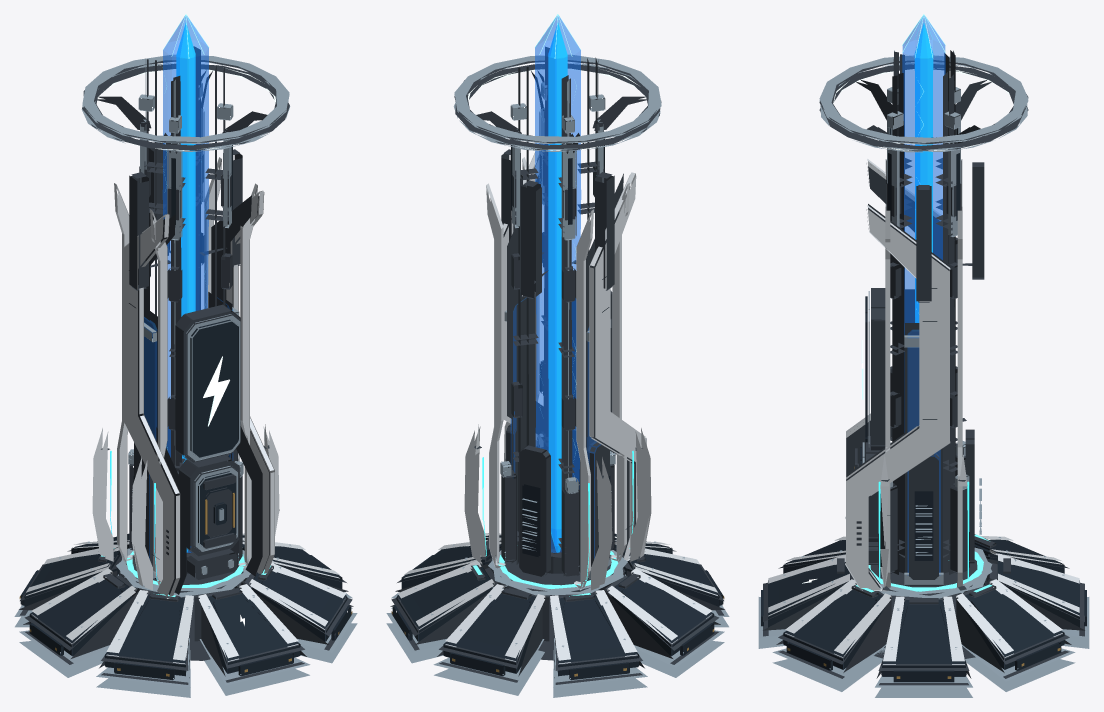
Rendered from agv_charge_tower_LOD2.glb.
The picture shows the model from 3 angles, left to right: view 1: azimuth 30°, elevation 25°; view 2: azimuth 150°, elevation 25°; view 3: azimuth 270°, elevation 25°; orthographic projection.
Visible parts, largest first — view 1: 11_Base_Panels, 10_Base_Frame, 04_Internal_Frame, 01_Crystal_Shell, 16_Front_Panel, 07_Halo_Metal, 09_Armor_Side_-1, 12_Base_Armor, 18_Charging_Bay, 19_Rear_Service, 09_Armor_Lower_Fins, 02_Crystal_Inner (+10 smaller); view 2: 11_Base_Panels, 10_Base_Frame, 01_Crystal_Shell, 04_Internal_Frame, 19_Rear_Service, 07_Halo_Metal, 15_Mechanical_Details, 12_Base_Armor, 02_Crystal_Inner, 09_Armor_Side_-1, 09_Armor_Lower_Fins, 09_Armor_Back_1 (+8 smaller); view 3: 11_Base_Panels, 10_Base_Frame, 04_Internal_Frame, 09_Armor_Side_1, 07_Halo_Metal, 19_Rear_Service, 01_Crystal_Shell, 12_Base_Armor, 15_Mechanical_Details, 16_Front_Panel, 02_Crystal_Inner, 09_Armor_Back_1 (+7 smaller).
Boxes of the visible parts, x1,y1,x2,y2 form: 11_Base_Panels: [20, 533, 351, 680]; 10_Base_Frame: [14, 541, 357, 697]; 04_Internal_Frame: [101, 46, 269, 594]; 01_Crystal_Shell: [162, 15, 209, 552]; 16_Front_Panel: [175, 304, 240, 462]; 07_Halo_Metal: [81, 54, 290, 153]; 09_Armor_Side_-1: [122, 214, 180, 598]; 12_Base_Armor: [26, 533, 345, 663]; 18_Charging_Bay: [179, 455, 239, 580]; 19_Rear_Service: [129, 142, 242, 566]; 09_Armor_Lower_Fins: [92, 424, 279, 590]; 02_Crystal_Inner: [176, 23, 195, 552]; 11_Base_Panels: [392, 533, 723, 680]; 10_Base_Frame: [386, 541, 729, 697]; 01_Crystal_Shell: [535, 15, 581, 552]; 04_Internal_Frame: [474, 46, 642, 579]; 19_Rear_Service: [501, 149, 614, 576]; 07_Halo_Metal: [453, 54, 661, 153]; 15_Mechanical_Details: [391, 138, 724, 676]; 12_Base_Armor: [398, 533, 717, 663]; 02_Crystal_Inner: [548, 23, 567, 552]; 09_Armor_Side_-1: [589, 172, 646, 560]; 09_Armor_Lower_Fins: [464, 421, 651, 590]; 09_Armor_Back_1: [486, 183, 505, 568]; 11_Base_Panels: [761, 534, 1086, 682]; 10_Base_Frame: [758, 547, 1089, 697]; 04_Internal_Frame: [846, 50, 972, 590]; 09_Armor_Side_1: [845, 205, 950, 590]; 07_Halo_Metal: [819, 55, 1028, 152]; 19_Rear_Service: [908, 162, 984, 579]; 01_Crystal_Shell: [902, 15, 945, 432]; 12_Base_Armor: [768, 535, 1079, 664]; 15_Mechanical_Details: [783, 128, 1064, 678]; 16_Front_Panel: [865, 288, 885, 450]; 02_Crystal_Inner: [914, 23, 933, 322]; 09_Armor_Back_1: [957, 210, 963, 587].
Size of the model in its own units: 1.47 by 3 by 1.47.
